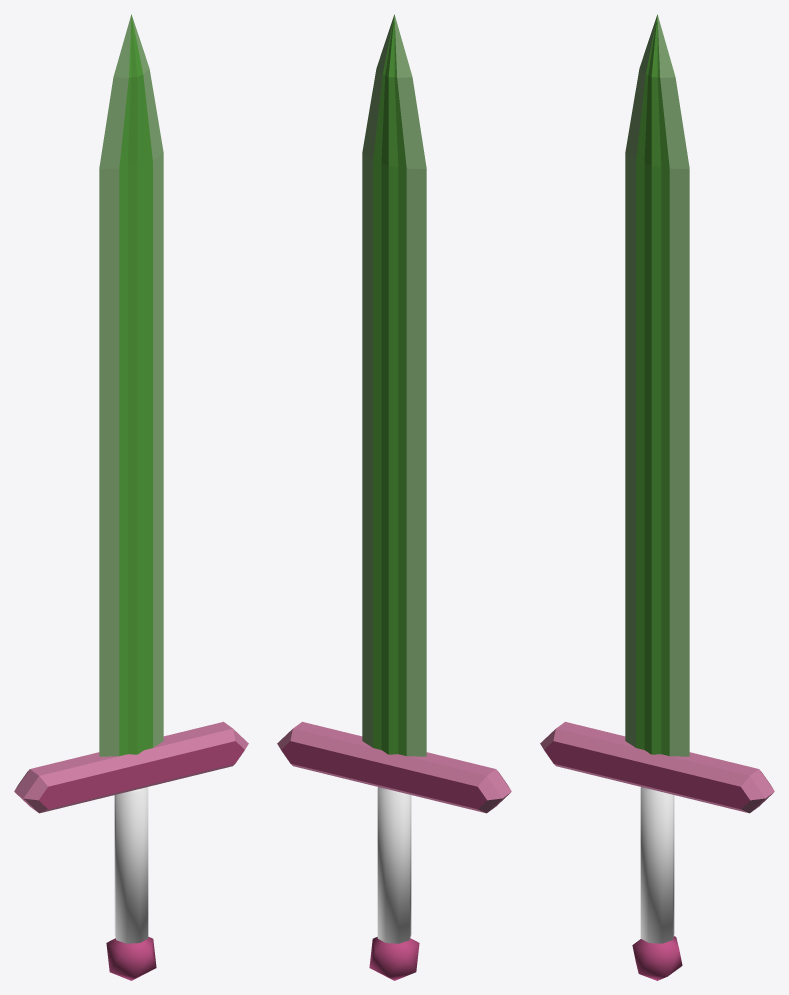
The model's file is seedler.glb.
The picture shows the model from 3 angles, left to right: view 1: azimuth 30°, elevation 25°; view 2: azimuth 150°, elevation 25°; view 3: azimuth 330°, elevation 25°; orthographic projection.
Visible parts, largest first — view 1: seedler_v0; view 2: seedler_v0; view 3: seedler_v0.
Boxes of the visible parts, x1=… form: seedler_v0: x1=14, y1=14, x2=248, y2=980; seedler_v0: x1=277, y1=14, x2=511, y2=980; seedler_v0: x1=540, y1=14, x2=774, y2=980.
Bounding box in the file's own units: 0.314 × 1.29 × 0.0578.
